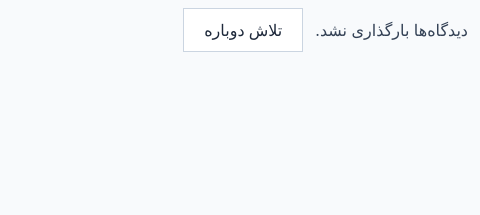
Test: CommentList › says when the list cannot be loaded, and tries again
Expected: the text "دیدگاه‌ها بارگذاری نشد." is shown, [315,18,468,42]
Click the button "تلاش دوباره": (243, 30) [183,8,303,52]
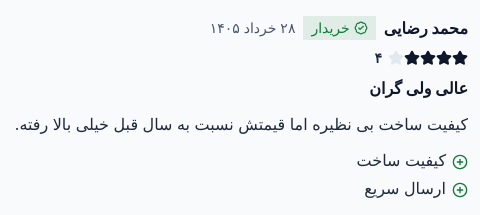
Expected: the text "محمد رضایی" is shown, [384,16,468,40]
